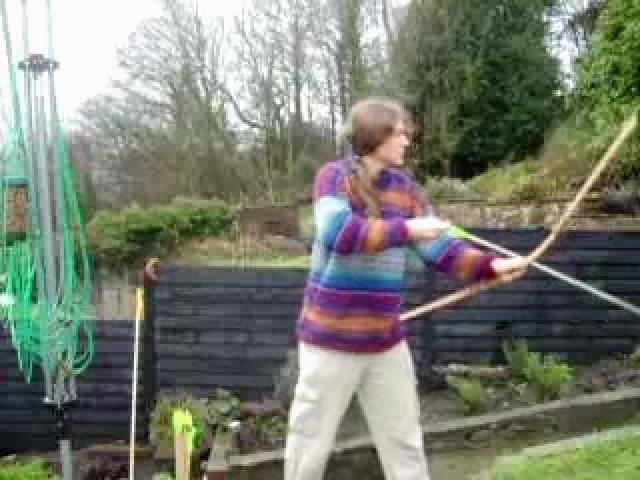I: (270, 80, 527, 480)
